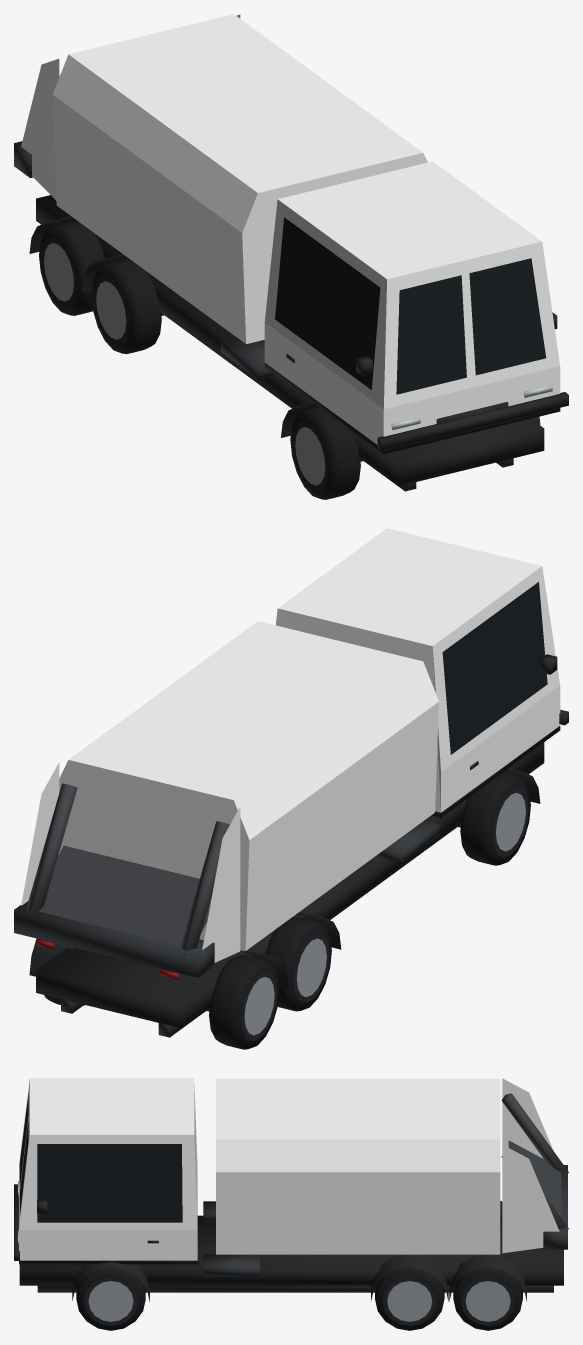
The model's file is brakhaus_coletor.glb.
3 views of the same model, one above another, from view 1: azimuth 30°, elevation 25°; view 2: azimuth 150°, elevation 25°; view 3: azimuth 270°, elevation 25° (orthographic). The views are drawn at different scales.
Parts seen in each view (by area): view 1: Body_Paint, Body_Details, Mount_RearLeft_Wheel_Details, Mount_FrontLeft_Wheel_Details, Mount_Rear2Left_Wheel_Details; view 2: Body_Paint, Body_Details, Mount_Rear2Left_Wheel_Details, Mount_FrontLeft_Wheel_Details, Mount_RearLeft_Wheel_Details; view 3: Body_Paint, Body_Details, Mount_Rear2Right_Wheel_Details, Mount_FrontRight_Wheel_Details, Mount_RearRight_Wheel_Details.
Part boxes in pixels (bbox=[...]): Body_Paint: bbox=[21, 14, 560, 444]; Body_Details: bbox=[14, 76, 568, 491]; Mount_RearLeft_Wheel_Details: bbox=[91, 259, 161, 354]; Mount_FrontLeft_Wheel_Details: bbox=[290, 407, 360, 499]; Mount_Rear2Left_Wheel_Details: bbox=[39, 221, 105, 315]; Body_Paint: bbox=[21, 528, 560, 962]; Body_Details: bbox=[14, 582, 568, 1037]; Mount_Rear2Left_Wheel_Details: bbox=[209, 955, 279, 1049]; Mount_FrontLeft_Wheel_Details: bbox=[460, 772, 530, 865]; Mount_RearLeft_Wheel_Details: bbox=[265, 916, 331, 1011]; Body_Paint: bbox=[19, 1078, 559, 1260]; Body_Details: bbox=[14, 1093, 568, 1301]; Mount_Rear2Right_Wheel_Details: bbox=[453, 1267, 522, 1330]; Mount_FrontRight_Wheel_Details: bbox=[76, 1267, 145, 1330]; Mount_RearRight_Wheel_Details: bbox=[375, 1267, 444, 1330].
Size of the model in its own units: 2.64 by 3.07 by 8.14.
Materials: 2 (1 with a texture image).
